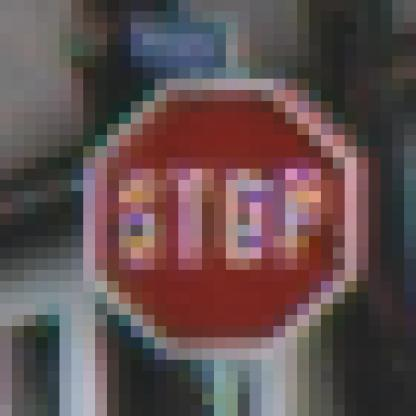Stop: (99, 84, 348, 346)
